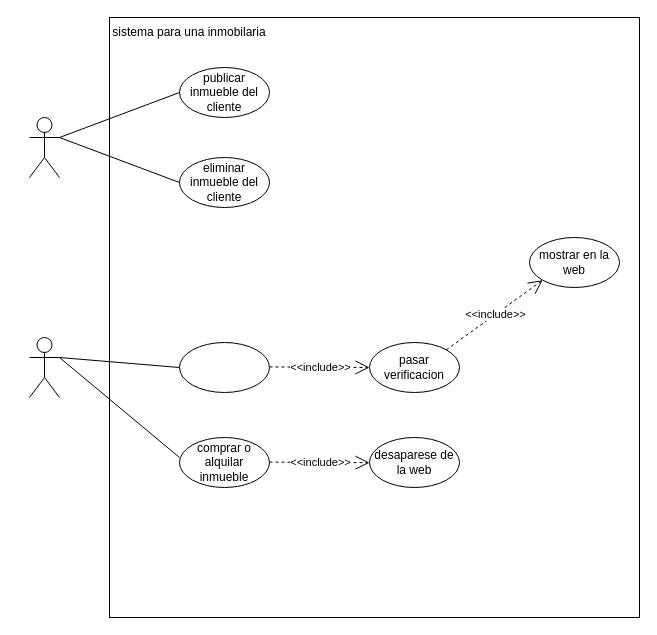
Some shapes in this 657 by 635 pixel diagram are drawn without their labels. Here are the shapes that lost their labels. From the top down, the box of each, then its label:
(28, 116, 60, 178): Empleado
(28, 336, 60, 398): Usuario
(178, 342, 270, 392): publicar inmueble para alquilarlos
